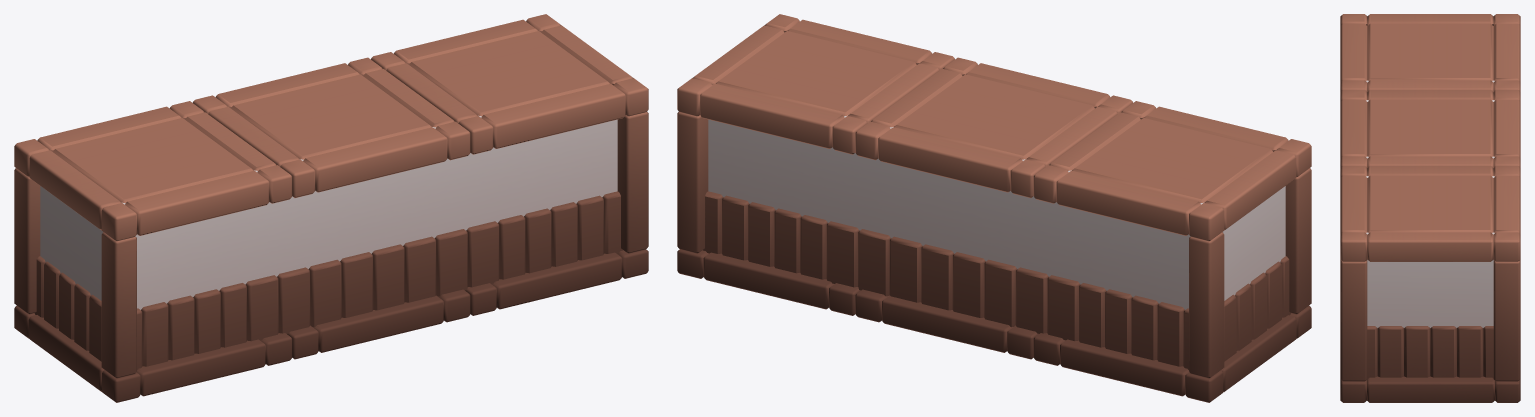
File: SM_Wood_Body_05.fbx
3 renders of one model, left to right at view 1: azimuth 30°, elevation 25°; view 2: azimuth 150°, elevation 25°; view 3: azimuth 270°, elevation 25°, orthographic. The views are drawn at different scales.
Visible parts, largest first — view 1: SM_Wood_Body_05; view 2: SM_Wood_Body_05; view 3: SM_Wood_Body_05.
Boxes of the visible parts, bbox=[...] form: SM_Wood_Body_05: bbox=[14, 14, 648, 402]; SM_Wood_Body_05: bbox=[677, 14, 1311, 402]; SM_Wood_Body_05: bbox=[1340, 14, 1520, 402].
Size of the model in its own units: 2.99 by 0.9986 by 0.9986.
